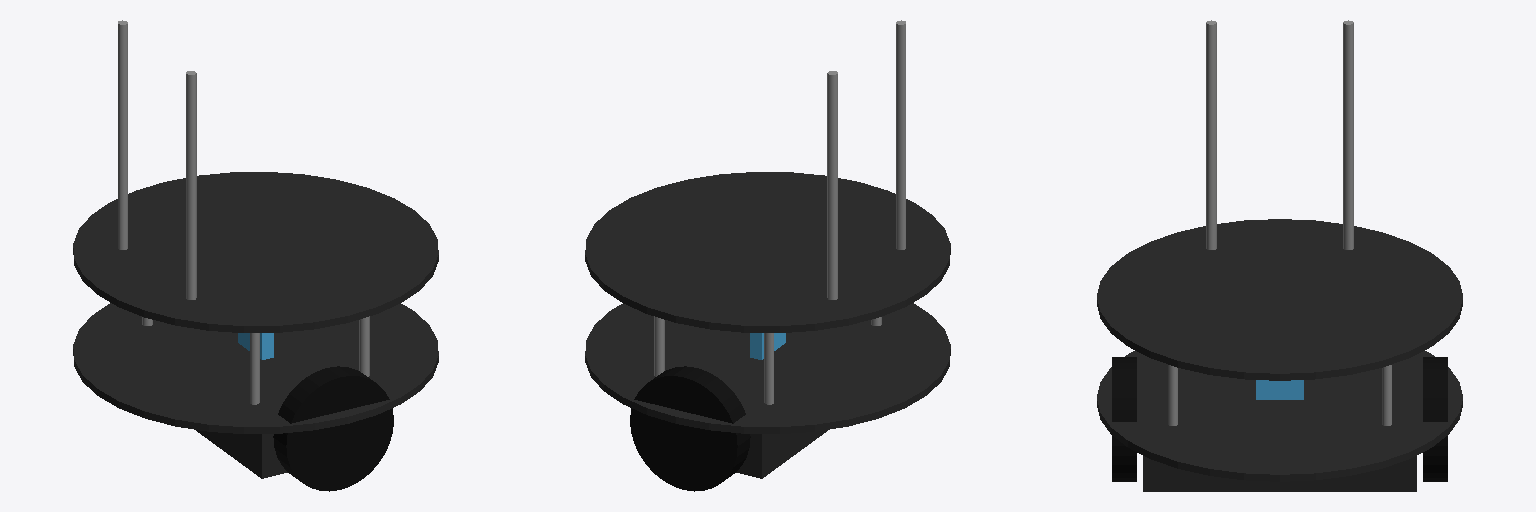
URDF robot description (eddiebot):
<?xml version="1.0" ?>
<!-- =================================================================================== -->
<!-- |    This document was autogenerated by xacro from robots/eddie_kinect_v1/eddiebot.urdf.xacro | -->
<!-- |    EDITING THIS FILE BY HAND IS NOT RECOMMENDED                                 | -->
<!-- =================================================================================== -->
<robot name="eddiebot">
  <!-- Macro for creating eddiebot circle stack. -->
  <!-- <xacro:property name="base_x" value="0.33" /> -->
  <!-- <xacro:property name="base_y" value="0.33" /> -->
  <!-- Macro for creating eddiebot camera stand. -->
  <!-- <xacro:property name="base_x" value="0.33" /> -->
  <!-- <xacro:property name="base_y" value="0.33" /> -->
  <!-- 
      These properties must be observed by any machine
      that wants to be defined as a turtlebot. Refer
      to the REP for more details.

      http://www.ros.org/reps/rep-0119.html
  -->
  <!--   <xacro:property name="cam_py" value="-0.0125" /> Y varies for different configurations. This is set in sensors_urdf -->
  <material name="dark_gray">
    <color rgba=".2 .2 .2 1"/>
  </material>
  <material name="light_grey">
    <color rgba="0.6 0.6 0.6 1"/>
  </material>
  <material name="black">
    <color rgba="0.1 0.1 0.1 1"/>
  </material>
  <!-- base_footprint is a fictitious link(frame) that is on the ground right below base_link origin, navigation stack depends on this frame -->
  <link name="base_footprint">
    <inertial>
      <mass value="1"/>
      <origin xyz="0.0 0.0 0.0"/>
      <inertia ixx="0.16666666666666666" ixy="0.0" ixz="0.0" iyy="0.16666666666666666" iyz="0.0" izz="0.16666666666666666"/>
    </inertial>
  </link>
  <link name="base_link">
    <inertial>
      <mass value="2"/>
      <origin xyz="0 0 0.0"/>
      <inertia ixx="0.01" ixy="0.0" ixz="0.0" iyy="0.01" iyz="0.0" izz="0.5"/>
    </inertial>
    <visual>
      <origin rpy="0 0 0" xyz="0 0 0"/>
      <geometry>
        <cylinder length="0.0095" radius="0.2245"/>
      </geometry>
      <material name="dark_gray"/>
    </visual>
    <collision>
      <origin rpy="0 0 0" xyz="0 0 0"/>
      <geometry>
        <cylinder length="0.0095" radius="0.2245"/>
      </geometry>
    </collision>
  </link>
  <joint name="base_footprint_joint" type="fixed">
    <origin rpy="0 0 0" xyz="0 0 0.10125"/>
    <parent link="base_footprint"/>
    <child link="base_link"/>
  </joint>
  <link name="battery_box">
    <inertial>
      <mass value="0.001"/>
      <origin xyz="0 0 0"/>
      <inertia ixx="0.0001" ixy="0.0" ixz="0.0" iyy="0.0001" iyz="0.0" izz="0.0001"/>
    </inertial>
    <visual>
      <origin rpy="0 0 0" xyz="0 0 0"/>
      <geometry>
        <box size="0.1778 0.3366 0.0762"/>
      </geometry>
      <material name="dark_gray"/>
    </visual>
    <collision>
      <origin rpy="0 0 0" xyz="0 0 0"/>
      <geometry>
        <box size="0.1778 0.3366 0.0762"/>
      </geometry>
    </collision>
  </link>
  <joint name="battery_box_joint" type="fixed">
    <origin rpy="0 0 0" xyz="0 0 -0.04285"/>
    <parent link="base_link"/>
    <child link="battery_box"/>
  </joint>
  <link name="front_caster">
    <inertial>
      <mass value="0.001"/>
      <origin xyz="0 0 0"/>
      <inertia ixx="0.0001" ixy="0.0" ixz="0.0" iyy="0.0001" iyz="0.0" izz="0.0001"/>
    </inertial>
    <visual>
      <!-- <geometry>
          <cylinder length="0.061" radius="0.05"/>
        </geometry>
        <origin rpy="${M_PI/2} 0 0" xyz="0 0 -0.05"/> -->
      <origin rpy="-1.5707 0 1.5707" xyz="0 0 0"/>
      <geometry>
        <mesh filename="package://eddiebot_description/meshes/28971-Caster-Wheel-Kit-v1.0.stl"/>
      </geometry>
      <material name="light_grey">
        <color rgba="0.6 0.6 0.6 1"/>
      </material>
    </visual>
    <collision>
      <geometry>
        <cylinder length="0.061" radius="0.05"/>
      </geometry>
      <origin rpy="1.5707963267948966 0 0" xyz="0 0 -0.05"/>
    </collision>
  </link>
  <joint name="front_caster_joint" type="fixed">
    <origin rpy="0 0 0" xyz="0.18745 0 -0.00475"/>
    <parent link="base_link"/>
    <child link="front_caster"/>
  </joint>
  <link name="rear_caster">
    <inertial>
      <mass value="0.001"/>
      <origin xyz="0 0 0"/>
      <inertia ixx="0.0001" ixy="0.0" ixz="0.0" iyy="0.0001" iyz="0.0" izz="0.0001"/>
    </inertial>
    <visual>
      <origin rpy="-1.5707 0 1.5707" xyz="0 0 0"/>
      <geometry>
        <mesh filename="package://eddiebot_description/meshes/28971-Caster-Wheel-Kit-v1.0.stl"/>
      </geometry>
      <material name="light_grey">
        <color rgba="0.6 0.6 0.6 1"/>
      </material>
    </visual>
    <collision>
      <geometry>
        <cylinder length="0.061" radius="0.05"/>
      </geometry>
      <origin rpy="1.5707963267948966 0 0" xyz="0 0 -0.05"/>
    </collision>
  </link>
  <joint name="rear_caster_joint" type="fixed">
    <origin rpy="0 0 0" xyz="-0.18745 0 -0.00475"/>
    <parent link="base_link"/>
    <child link="rear_caster"/>
  </joint>
  <link name="left_axle_link">
    <inertial>
      <origin xyz="0 0 0"/>
      <mass value="0.01"/>
      <inertia ixx="0.001" ixy="0.0" ixz="0.0" iyy="0.001" iyz="0.0" izz="0.001"/>
    </inertial>
    <visual>
      <origin rpy="0 1.5707 1.5707" xyz="0 0 0"/>
      <geometry>
        <cylinder length="0.00635" radius="0.00635"/>
      </geometry>
      <material name="light_grey"/>
    </visual>
    <collision>
      <origin rpy="0 1.5707 1.5707" xyz="0 0 0"/>
      <geometry>
        <cylinder length="0.00635" radius="0.00635"/>
      </geometry>
    </collision>
  </link>
  <joint name="left_axle_joint" type="fixed">
    <origin rpy="0 0 0" xyz="0 0.171475 0.0178"/>
    <parent link="battery_box"/>
    <child link="left_axle_link"/>
    <axis xyz="0 1 0"/>
  </joint>
  <link name="right_axle_link">
    <inertial>
      <origin xyz="0 0 0"/>
      <mass value="0.01"/>
      <inertia ixx="0.001" ixy="0.0" ixz="0.0" iyy="0.001" iyz="0.0" izz="0.001"/>
    </inertial>
    <visual>
      <origin rpy="0 1.5707 1.5707" xyz="0 0 0"/>
      <geometry>
        <cylinder length="0.00635" radius="0.00635"/>
      </geometry>
      <material name="light_grey"/>
    </visual>
    <collision>
      <origin rpy="0 1.5707 1.5707" xyz="0 0 0"/>
      <geometry>
        <cylinder length="0.00635" radius="0.00635"/>
      </geometry>
    </collision>
  </link>
  <joint name="right_axle_joint" type="fixed">
    <origin rpy="0 0 0" xyz="0 -0.171475 0.0178"/>
    <parent link="battery_box"/>
    <child link="right_axle_link"/>
    <axis xyz="0 1 0"/>
  </joint>
  <link name="left_wheel_link">
    <inertial>
      <origin xyz="0 0 0"/>
      <mass value="0.01"/>
      <inertia ixx="0.001" ixy="0.0" ixz="0.0" iyy="0.001" iyz="0.0" izz="0.001"/>
    </inertial>
    <visual>
      <origin rpy="0 1.5707 1.5707" xyz="0 0 0"/>
      <geometry>
        <cylinder length="0.03175" radius="0.0762"/>
      </geometry>
      <material name="black"/>
    </visual>
    <collision>
      <origin rpy="0 1.5707 1.5707" xyz="0 0 0"/>
      <geometry>
        <cylinder length="0.03175" radius="0.0762"/>
      </geometry>
    </collision>
  </link>
  <!-- Fixed because we never rotate it anyway, it is just for show -->
  <!-- NOTE This may prevent gazebo from working with this model -->
  <joint name="left_wheel_joint" type="fixed">
    <origin rpy="0 0 0" xyz="0 0.01905 0"/>
    <parent link="left_axle_link"/>
    <child link="left_wheel_link"/>
    <axis xyz="0 1 0"/>
  </joint>
  <link name="right_wheel_link">
    <inertial>
      <origin xyz="0 0 0"/>
      <mass value="0.01"/>
      <inertia ixx="0.001" ixy="0.0" ixz="0.0" iyy="0.001" iyz="0.0" izz="0.001"/>
    </inertial>
    <visual>
      <origin rpy="0 1.5707 1.5707" xyz="0 0 0"/>
      <geometry>
        <cylinder length="0.03175" radius="0.0762"/>
      </geometry>
      <material name="black"/>
    </visual>
    <collision>
      <origin rpy="0 1.5707 1.5707" xyz="0 0 0"/>
      <geometry>
        <cylinder length="0.03175" radius="0.0762"/>
      </geometry>
    </collision>
  </link>
  <!-- Fixed because we never rotate it anyway, it is just for show -->
  <!-- NOTE This may prevent gazebo from working with this model -->
  <joint name="right_wheel_joint" type="fixed">
    <origin rpy="0 0 0" xyz="0 -0.01905 0"/>
    <parent link="right_axle_link"/>
    <child link="right_wheel_link"/>
    <axis xyz="0 1 0"/>
  </joint>
  <link name="ping_sensor_array">
    <visual>
      <geometry>
        <box size="0.0174 0.06 0.0644"/>
      </geometry>
    </visual>
    <inertial>
      <mass value="0.001"/>
      <origin xyz="0 0 0"/>
      <inertia ixx="0.0001" ixy="0.0" ixz="0.0" iyy="0.0001" iyz="0.0" izz="0.0001"/>
    </inertial>
  </link>
  <!-- This pretends to be in the center in order to aid in calculating degrees from multiple sensors on one fake laser scan -->
  <joint name="ping_array_joint" type="fixed">
    <origin rpy="0 0 0" xyz="0 0 0.03695"/>
    <parent link="base_link"/>
    <child link="ping_sensor_array"/>
  </joint>
  <link name="ir_sensor_array">
    <visual>
      <geometry>
        <box size="0.0174 0.06 0.0644"/>
      </geometry>
    </visual>
    <inertial>
      <mass value="0.001"/>
      <origin xyz="0 0 0"/>
      <inertia ixx="0.0001" ixy="0.0" ixz="0.0" iyy="0.0001" iyz="0.0" izz="0.0001"/>
    </inertial>
  </link>
  <joint name="ir_array_joint" type="fixed">
    <origin rpy="0 0 0" xyz="0 0 0.03695"/>
    <parent link="base_link"/>
    <child link="ir_sensor_array"/>
  </joint>
  <joint name="plate_0_joint" type="fixed">
    <origin rpy="0 0 0" xyz="0 0 0.1365"/>
    <parent link="base_link"/>
    <child link="plate_0_link"/>
  </joint>
  <link name="plate_0_link">
    <inertial>
      <mass value="0.01"/>
      <origin xyz="0 0 0"/>
      <inertia ixx="0.01" ixy="0.0" ixz="0.0" iyy="0.01" iyz="0.0" izz="0.01"/>
    </inertial>
    <visual>
      <origin rpy="0 0 0" xyz=" 0 0 0 "/>
      <geometry>
        <cylinder length="0.0095" radius="0.2245"/>
      </geometry>
      <material name="veryDarkGrey">
        <color rgba=".2 .2 .2 1"/>
      </material>
    </visual>
    <collision>
      <origin rpy="0 0 0" xyz="0.0 0.0 0.0"/>
      <geometry>
        <cylinder length="0.0095" radius="0.2245"/>
      </geometry>
    </collision>
  </link>
  <joint name="standoff_5in_0_joint" type="fixed">
    <origin rpy="0 0 0" xyz="0.0776402 0.1314196 0.06825"/>
    <parent link="base_link"/>
    <child link="standoff_5in_0_link"/>
  </joint>
  <link name="standoff_5in_0_link">
    <inertial>
      <mass value="0.001"/>
      <origin xyz="0 0 0"/>
      <inertia ixx="0.0001" ixy="0.0" ixz="0.0" iyy="0.0001" iyz="0.0" izz="0.0001"/>
    </inertial>
    <visual>
      <origin rpy="0 0 0" xyz=" 0 0 0 "/>
      <geometry>
        <cylinder length="0.127" radius="0.00635"/>
      </geometry>
      <material name="light_grey">
        <color rgba="0.6 0.6 0.6 1"/>
      </material>
    </visual>
    <collision>
      <origin rpy="0 0 0" xyz="0.0 0.0 0.0"/>
      <geometry>
        <cylinder length="0.127" radius="0.00635"/>
      </geometry>
    </collision>
  </link>
  <joint name="standoff_5in_1_joint" type="fixed">
    <origin rpy="0 0 0" xyz="0.0776402 -0.1314196 0.06825"/>
    <parent link="base_link"/>
    <child link="standoff_5in_1_link"/>
  </joint>
  <link name="standoff_5in_1_link">
    <inertial>
      <mass value="0.001"/>
      <origin xyz="0 0 0"/>
      <inertia ixx="0.0001" ixy="0.0" ixz="0.0" iyy="0.0001" iyz="0.0" izz="0.0001"/>
    </inertial>
    <visual>
      <origin rpy="0 0 0" xyz=" 0 0 0 "/>
      <geometry>
        <cylinder length="0.127" radius="0.00635"/>
      </geometry>
      <material name="light_grey">
        <color rgba="0.6 0.6 0.6 1"/>
      </material>
    </visual>
    <collision>
      <origin rpy="0 0 0" xyz="0.0 0.0 0.0"/>
      <geometry>
        <cylinder length="0.127" radius="0.00635"/>
      </geometry>
    </collision>
  </link>
  <joint name="standoff_5in_2_joint" type="fixed">
    <origin rpy="0 0 0" xyz="-0.0776402 -0.1314196 0.06825"/>
    <parent link="base_link"/>
    <child link="standoff_5in_2_link"/>
  </joint>
  <link name="standoff_5in_2_link">
    <inertial>
      <mass value="0.001"/>
      <origin xyz="0 0 0"/>
      <inertia ixx="0.0001" ixy="0.0" ixz="0.0" iyy="0.0001" iyz="0.0" izz="0.0001"/>
    </inertial>
    <visual>
      <origin rpy="0 0 0" xyz=" 0 0 0 "/>
      <geometry>
        <cylinder length="0.127" radius="0.00635"/>
      </geometry>
      <material name="light_grey">
        <color rgba="0.6 0.6 0.6 1"/>
      </material>
    </visual>
    <collision>
      <origin rpy="0 0 0" xyz="0.0 0.0 0.0"/>
      <geometry>
        <cylinder length="0.127" radius="0.00635"/>
      </geometry>
    </collision>
  </link>
  <joint name="standoff_5in_3_joint" type="fixed">
    <origin rpy="0 0 0" xyz="-0.0776402 0.1314196 0.06825"/>
    <parent link="base_link"/>
    <child link="standoff_5in_3_link"/>
  </joint>
  <link name="standoff_5in_3_link">
    <inertial>
      <mass value="0.001"/>
      <origin xyz="0 0 0"/>
      <inertia ixx="0.0001" ixy="0.0" ixz="0.0" iyy="0.0001" iyz="0.0" izz="0.0001"/>
    </inertial>
    <visual>
      <origin rpy="0 0 0" xyz=" 0 0 0 "/>
      <geometry>
        <cylinder length="0.127" radius="0.00635"/>
      </geometry>
      <material name="light_grey">
        <color rgba="0.6 0.6 0.6 1"/>
      </material>
    </visual>
    <collision>
      <origin rpy="0 0 0" xyz="0.0 0.0 0.0"/>
      <geometry>
        <cylinder length="0.127" radius="0.00635"/>
      </geometry>
    </collision>
  </link>
  <!-- <joint name="plate_1_joint" type="fixed">
      <origin xyz="0 0 0.1365" rpy="0 0 0" />
      <parent link="${parent}"/>
      <child link="plate_1_link" />
    </joint>

    <link name="plate_1_link">
      <inertial>
        <mass value="0.01" />
        <origin xyz="0 0 0" />
        <inertia ixx="0.01" ixy="0.0" ixz="0.0"
          iyy="0.01" iyz="0.0"
          izz="0.01" />
      </inertial>

      <visual>
        <origin xyz=" 0 0 0 " rpy="0 0 0" />
        <geometry>
          <cylinder length="0.0095" radius="0.2245"/>
        </geometry>
        <material name ="veryDarkGrey">
          <color rgba=".2 .2 .2 1"/>
        </material>
      </visual>

      <collision>
        <origin xyz="0.0 0.0 0.0" rpy="0 0 0" />
        <geometry>
          <cylinder length="0.0095" radius="0.2245"/>
        </geometry>
      </collision>
    </link> -->
  <!-- Camera mount -->
  <joint name="camera_mount_joint" type="fixed">
    <origin rpy="0 0 0" xyz="-0.140 0.0 0.31555"/>
    <parent link="plate_0_link"/>
    <child link="camera_mount_link"/>
  </joint>
  <link name="camera_mount_link">
    <visual>
      <origin rpy="-1.5707963267948966 0 0" xyz="0 0 0"/>
      <geometry>
        <mesh filename="package://eddiebot_description/meshes/sensors/xtion_pro_stack.dae"/>
      </geometry>
    </visual>
    <collision>
      <origin rpy="0 0 0" xyz="0.0 0.0 0.0"/>
      <geometry>
        <box size="0.0330 0.2760 0.0120"/>
      </geometry>
    </collision>
    <inertial>
      <mass value="0.170"/>
      <origin xyz="0 0 0"/>
      <inertia ixx="0.001152600" ixy="0.0" ixz="0.0" iyy="0.000148934" iyz="0.0" izz="0.001154654"/>
    </inertial>
  </link>
  <joint name="standoff_30cm_0_joint" type="fixed">
    <origin rpy="0 0 0" xyz="-0.14 -0.084 0.15715"/>
    <parent link="plate_0_link"/>
    <child link="standoff_30cm_0_link"/>
  </joint>
  <link name="standoff_30cm_0_link">
    <inertial>
      <mass value="0.001"/>
      <origin xyz="0 0 0"/>
      <inertia ixx="0.0001" ixy="0.0" ixz="0.0" iyy="0.0001" iyz="0.0" izz="0.0001"/>
    </inertial>
    <visual>
      <origin rpy="0 0 0" xyz=" 0 0 0 "/>
      <geometry>
        <cylinder length="0.3048" radius="0.00635"/>
      </geometry>
      <material name="light_grey">
        <color rgba="0.6 0.6 0.6 1"/>
      </material>
    </visual>
    <collision>
      <origin rpy="0 0 0" xyz="0.0 0.0 0.0"/>
      <geometry>
        <cylinder length="0.3048" radius="0.00635"/>
      </geometry>
    </collision>
  </link>
  <joint name="standoff_30cm_1_joint" type="fixed">
    <origin rpy="0 0 0" xyz="-0.14 0.084 0.15715"/>
    <parent link="plate_0_link"/>
    <child link="standoff_30cm_1_link"/>
  </joint>
  <link name="standoff_30cm_1_link">
    <inertial>
      <mass value="0.001"/>
      <origin xyz="0 0 0"/>
      <inertia ixx="0.0001" ixy="0.0" ixz="0.0" iyy="0.0001" iyz="0.0" izz="0.0001"/>
    </inertial>
    <visual>
      <origin rpy="0 0 0" xyz=" 0 0 0 "/>
      <geometry>
        <cylinder length="0.3048" radius="0.00635"/>
      </geometry>
      <material name="light_grey">
        <color rgba="0.6 0.6 0.6 1"/>
      </material>
    </visual>
    <collision>
      <origin rpy="0 0 0" xyz="0.0 0.0 0.0"/>
      <geometry>
        <cylinder length="0.3048" radius="0.00635"/>
      </geometry>
    </collision>
  </link>
  <joint name="camera_rgb_joint" type="fixed">
    <origin rpy="0 0 0" xyz="0.02 -0.0125 0.055"/>
    <parent link="camera_mount_link"/>
    <child link="camera_rgb_frame"/>
  </joint>
  <link name="camera_rgb_frame"/>
  <joint name="camera_rgb_optical_joint" type="fixed">
    <origin rpy="-1.5707963267948966 0 -1.5707963267948966" xyz="0 0 0"/>
    <parent link="camera_rgb_frame"/>
    <child link="camera_rgb_optical_frame"/>
  </joint>
  <link name="camera_rgb_optical_frame"/>
  <joint name="camera_joint" type="fixed">
    <origin rpy="0 0 0" xyz="-0.031 0.0125 -0.016"/>
    <parent link="camera_rgb_frame"/>
    <child link="camera_link"/>
  </joint>
  <link name="camera_link">
    <visual>
      <origin rpy="0 0 1.5707963267948966" xyz="0 0 0"/>
      <geometry>
        <mesh filename="package://eddiebot_description/meshes/sensors/kinect.dae"/>
      </geometry>
    </visual>
    <collision>
      <origin rpy="0 0 0" xyz="0.0 0.0 0.0"/>
      <geometry>
        <box size="0.07271 0.27794 0.073"/>
      </geometry>
    </collision>
    <inertial>
      <mass value="0.564"/>
      <origin xyz="0 0 0"/>
      <inertia ixx="0.003881243" ixy="0.0" ixz="0.0" iyy="0.000498940" iyz="0.0" izz="0.003879257"/>
    </inertial>
  </link>
  <!-- The fixed joints & links below are usually published by static_transformers launched by the OpenNi launch 
         files. However, for Gazebo simulation we need them, so we add them here.
         (Hence, don't publish them additionally!) -->
  <joint name="camera_depth_joint" type="fixed">
    <origin rpy="0 0 0" xyz="0 0.025 0"/>
    <parent link="camera_rgb_frame"/>
    <child link="camera_depth_frame"/>
  </joint>
  <link name="camera_depth_frame"/>
  <joint name="camera_depth_optical_joint" type="fixed">
    <origin rpy="-1.5707963267948966 0 -1.5707963267948966" xyz="0 0 0"/>
    <parent link="camera_depth_frame"/>
    <child link="camera_depth_optical_frame"/>
  </joint>
  <link name="camera_depth_optical_frame"/>
  <gazebo>
    <plugin filename="gz-sim-sensors-system" name="gz::sim::systems::Sensors">
      <render_engine>ogre2</render_engine>
    </plugin>
  </gazebo>
  <gazebo reference="camera_link">
    <sensor name="camera" type="rgbd_camera">
      <camera>
        <horizontal_fov>1.0471975511965976</horizontal_fov>
        <image>
          <width>640</width>
          <height>480</height>
          <format>RGB_INT8</format>
        </image>
        <clip>
          <near>0.05</near>
          <far>8.0</far>
        </clip>
        <distortion>
          <k1>0.0</k1>
          <k2>0.0</k2>
          <k3>0.0</k3>
          <p1>0.0</p1>
          <p2>0.0</p2>
          <center>0.5 0.5</center>
        </distortion>
        <lens>
          <intrinsics>
            <fx>554.25469</fx>
            <fy>554.25469</fy>
            <cx>320.5</cx>
            <cy>240.5</cy>
            <s>0</s>
          </intrinsics>
        </lens>
        <noise>
          <type>gaussian</type>
          <mean>0</mean>
          <stddev>0.007</stddev>
        </noise>
        <depth_camera>
          <clip>
            <near>0.05</near>
            <far>8.0</far>
          </clip>
        </depth_camera>
      </camera>
      <always_on>1</always_on>
      <update_rate>20</update_rate>
      <visualize>true</visualize>
      <topic>kinect_rgbd_camera</topic>
      <enable_metrics>true</enable_metrics>
    </sensor>
  </gazebo>
</robot>

--- What the picture shows (computed from the rendered views, not written in the file) ---
The picture shows the robot from 3 angles, left to right: view 1: azimuth 30°, elevation 25°; view 2: azimuth 150°, elevation 25°; view 3: azimuth 270°, elevation 25°; orthographic projection.
Robot: eddiebot — 24 links, 23 joints (23 fixed); root link base_footprint; default pose: all joints at 0.
Links seen in each view (by area): view 1: plate_0_link, base_link, right_wheel_link, standoff_30cm_0_link, standoff_30cm_1_link, battery_box, standoff_5in_2_link, standoff_5in_1_link, ping_sensor_array; view 2: plate_0_link, base_link, left_wheel_link, standoff_30cm_1_link, standoff_30cm_0_link, battery_box, standoff_5in_3_link, standoff_5in_0_link, ping_sensor_array; view 3: plate_0_link, base_link, battery_box, left_wheel_link, right_wheel_link, standoff_30cm_0_link, standoff_30cm_1_link, ping_sensor_array, standoff_5in_0_link, standoff_5in_1_link.
Boxes of the visible links, bbox=[...] form: plate_0_link: bbox=[73, 172, 438, 332]; base_link: bbox=[73, 303, 438, 433]; right_wheel_link: bbox=[273, 366, 393, 491]; standoff_30cm_0_link: bbox=[186, 71, 196, 299]; standoff_30cm_1_link: bbox=[118, 20, 127, 249]; battery_box: bbox=[196, 430, 287, 478]; standoff_5in_2_link: bbox=[250, 333, 259, 404]; standoff_5in_1_link: bbox=[359, 316, 369, 376]; ping_sensor_array: bbox=[238, 333, 273, 359]; plate_0_link: bbox=[585, 172, 950, 332]; base_link: bbox=[585, 303, 950, 433]; left_wheel_link: bbox=[630, 366, 750, 491]; standoff_30cm_1_link: bbox=[827, 71, 837, 299]; standoff_30cm_0_link: bbox=[896, 20, 905, 249]; battery_box: bbox=[736, 430, 827, 478]; standoff_5in_3_link: bbox=[764, 333, 773, 404]; standoff_5in_0_link: bbox=[654, 316, 664, 376]; ping_sensor_array: bbox=[750, 333, 785, 359]; plate_0_link: bbox=[1097, 219, 1462, 380]; base_link: bbox=[1097, 351, 1462, 481]; battery_box: bbox=[1143, 456, 1416, 491]; left_wheel_link: bbox=[1423, 357, 1447, 481]; right_wheel_link: bbox=[1112, 357, 1136, 481]; standoff_30cm_0_link: bbox=[1206, 20, 1216, 249]; standoff_30cm_1_link: bbox=[1343, 20, 1353, 249]; ping_sensor_array: bbox=[1256, 380, 1303, 399]; standoff_5in_0_link: bbox=[1382, 365, 1391, 425]; standoff_5in_1_link: bbox=[1168, 365, 1177, 425].
Size in the robot's own frame: 0.449 by 0.449 by 0.5473 metres.
Meshes: 3 distinct files referenced, 0 mesh visuals loaded (none loaded); not drawn: 4 (reference not matched to a file when rendering).
